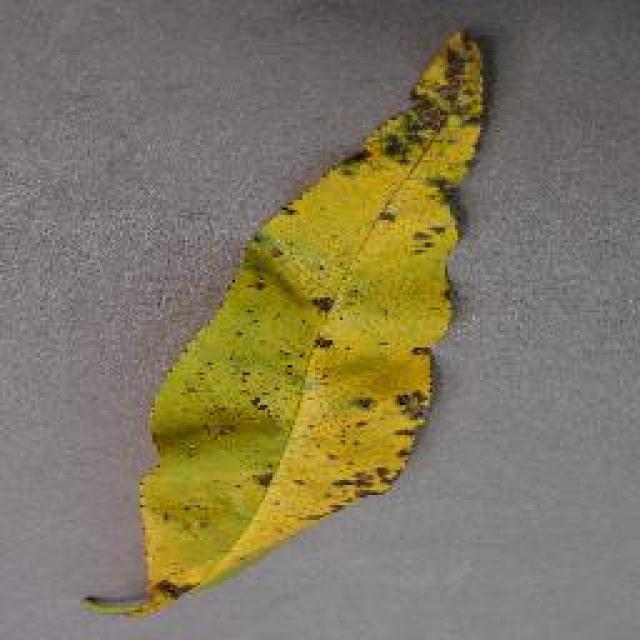Peach_Bacterial_Spot: (247, 67, 458, 508)
